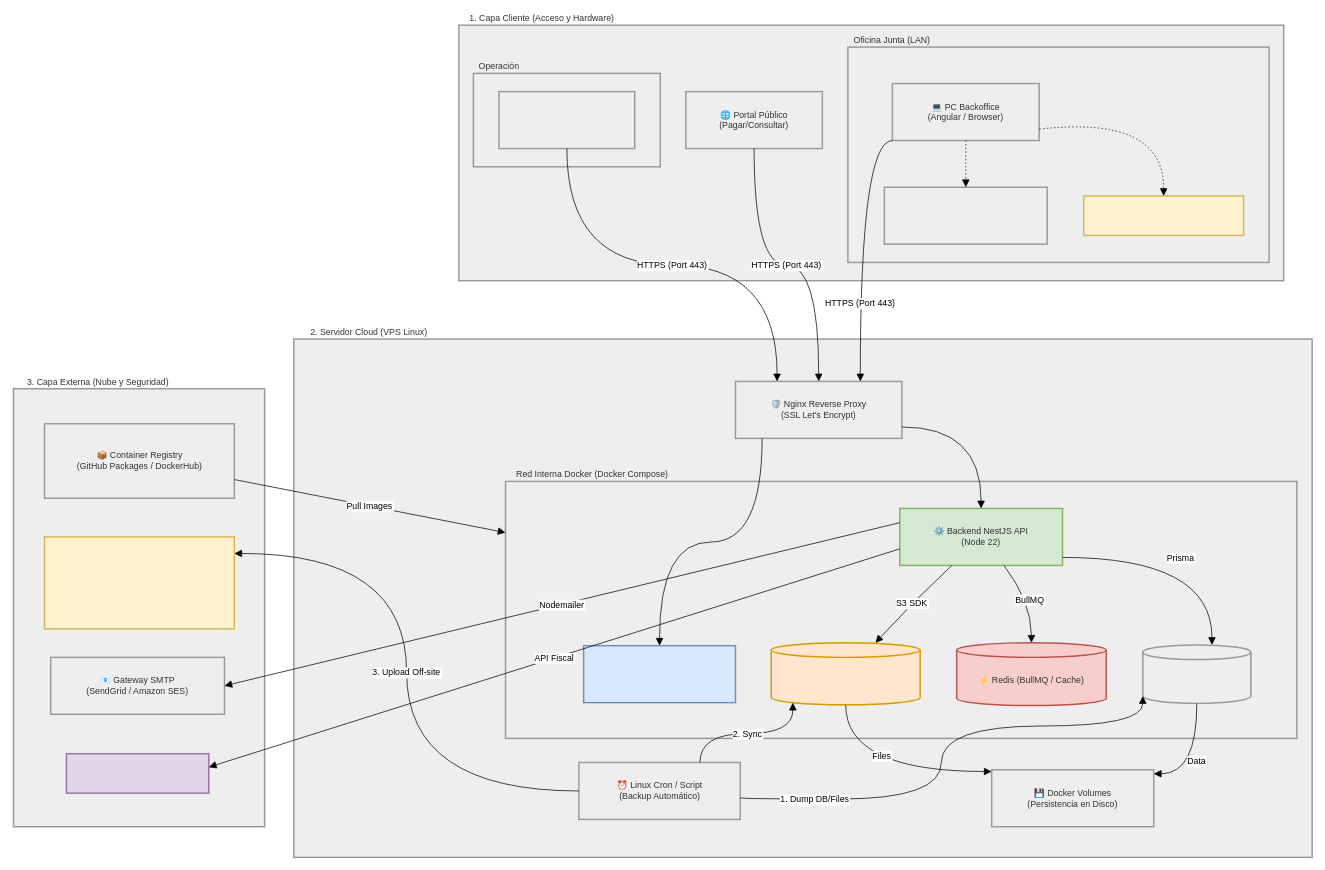
This 1325x870 diagram has some shape labels left out. Here are the shapes that lost their labels. From the top down, the centre of each, then its label:
At point (566, 120): "📱 App Ionic PWA (Offline-first)".
At point (965, 215): "🖨️ Impresora Matricial (Epson FX-890)".
At point (1163, 215): "🖨️ Impresora Térmica".
At point (139, 582): "☁️ Almacenamiento Externo (Backups en AWS S3 / Dropbox)".
At point (659, 674): "🌐 Frontend Angular (Contenedor Nginx)".
At point (845, 673): "🗂️ MinIO (Object Storage)".
At point (1196, 674): "🗄️ PostgreSQL v15".
At point (137, 773): "🏛️ API SRI Ecuador".
